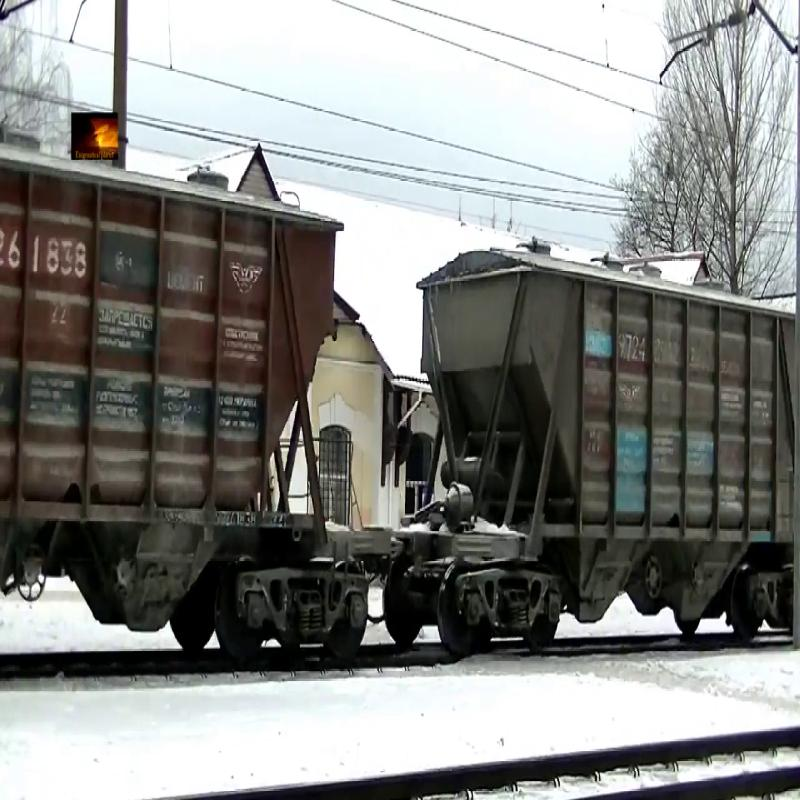train: (1, 157, 341, 666), (395, 261, 799, 645)
